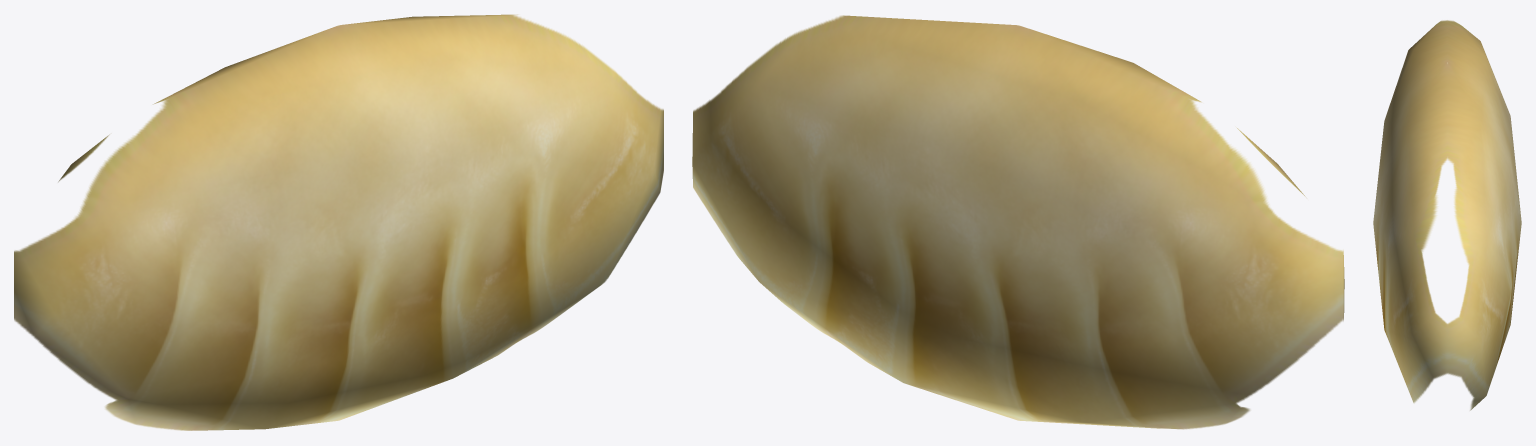
Rendered from dumpling.glb.
3 renders of one model, left to right at view 1: azimuth 30°, elevation 25°; view 2: azimuth 150°, elevation 25°; view 3: azimuth 270°, elevation 25°, orthographic. The views are drawn at different scales.
Parts seen in each view (by area): view 1: dumpling; view 2: dumpling; view 3: dumpling.
Boxes of the visible parts, <box> form: dumpling: <box>14,14,663,430</box>; dumpling: <box>692,15,1344,429</box>; dumpling: <box>1373,20,1521,410</box>.
Size of the model in its own units: 1.05 by 0.6084 by 0.2555.
Materials: 1 (1 with a texture image).
